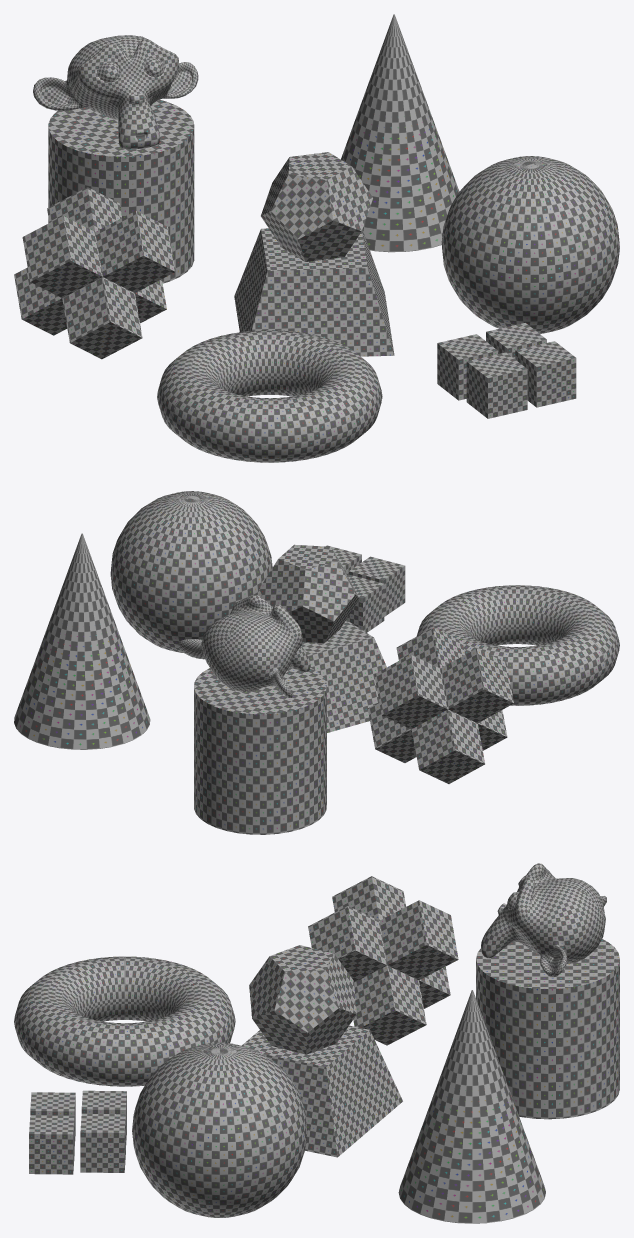
Rendered from testobjects.obj.
3 views of the same model, one above another, from view 1: azimuth 30°, elevation 25°; view 2: azimuth 150°, elevation 25°; view 3: azimuth 270°, elevation 25° (orthographic). The views are drawn at different scales.
Parts seen in each view (by area): view 1: sphere, torus, mine, Cylinder_cone, cylinder, frustum, suzanne, dodecahedron, Cube.002, Cube.003, Cube, Cube.001; view 2: cylinder, sphere, Cylinder_cone, mine, torus, suzanne, dodecahedron, frustum, Cube.002, Cube; view 3: sphere, torus, cylinder, Cylinder_cone, mine, frustum, dodecahedron, suzanne, Cube.003, Cube.001, Cube.002, Cube.
Part boxes in pixels (x1,y1,x2,y2): sphere: (441,156,619,333); torus: (157,330,382,462); mine: (14,187,175,359); Cylinder_cone: (341,14,459,252); cylinder: (48,99,194,283); frustum: (234,228,394,356); suzanne: (33,35,198,149); dodecahedron: (261,152,373,261); Cube.002: (466,352,527,418); Cube.003: (515,341,576,407); Cube: (437,334,498,400); Cube.001: (486,323,546,358); cylinder: (194,667,326,834); sphere: (110,491,272,652); Cylinder_cone: (14,533,150,749); mine: (367,627,513,783); torus: (417,585,619,705); suzanne: (178,595,310,697); dodecahedron: (259,544,359,643); frustum: (301,620,386,732); Cube.002: (348,556,405,616); Cube: (346,574,384,632); sphere: (132,1042,307,1217); torus: (14,956,235,1086); cylinder: (476,939,619,1119); Cylinder_cone: (398,990,545,1223); mine: (308,876,458,1045); frustum: (242,1025,402,1157); dodecahedron: (249,945,356,1054); suzanne: (481,863,606,977); Cube.003: (29,1115,74,1174); Cube.001: (80,1113,125,1172); Cube.002: (30,1092,75,1145); Cube: (81,1090,126,1144).
Bounding box in the file's own units: 13.37 × 5.73 × 14.14.
